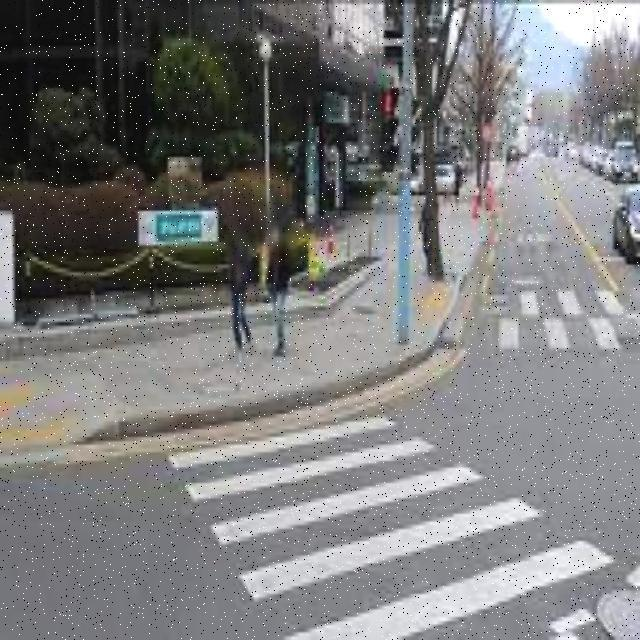Pedestrian crosswalk: (152, 411, 640, 637), (463, 286, 640, 364)
